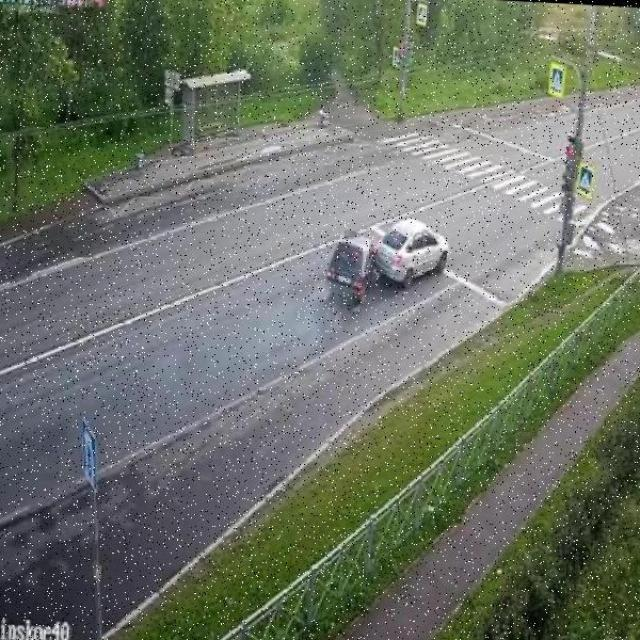accident: (324, 213, 451, 310)
